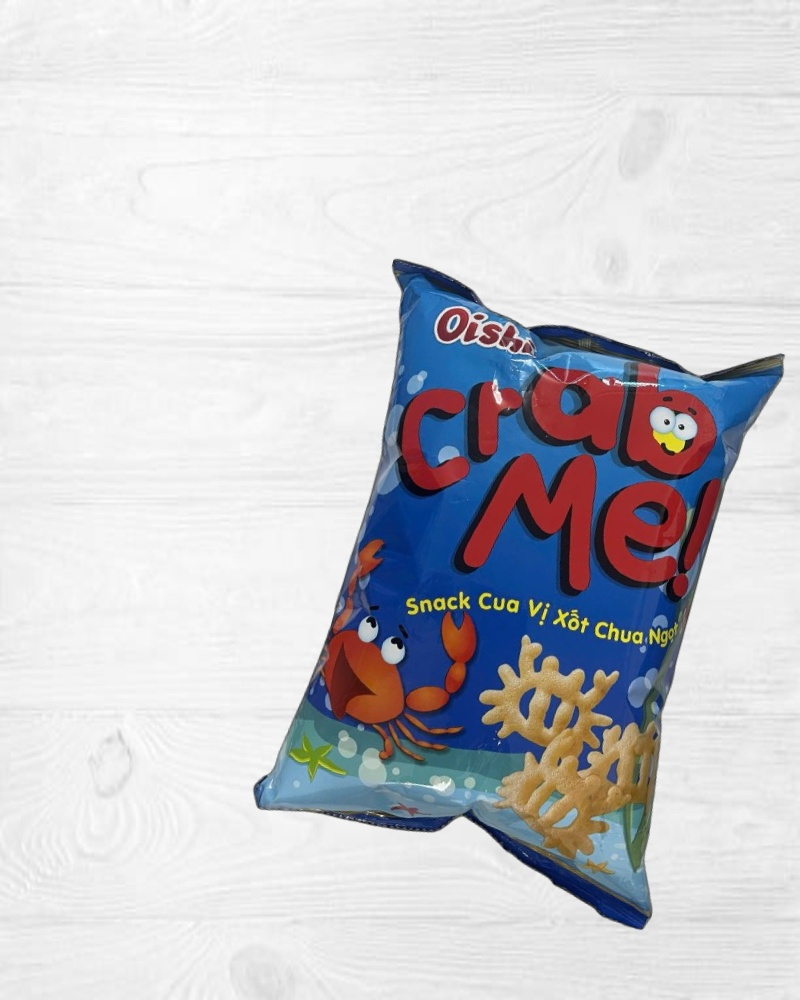Snack cua: (245, 252, 800, 926)
